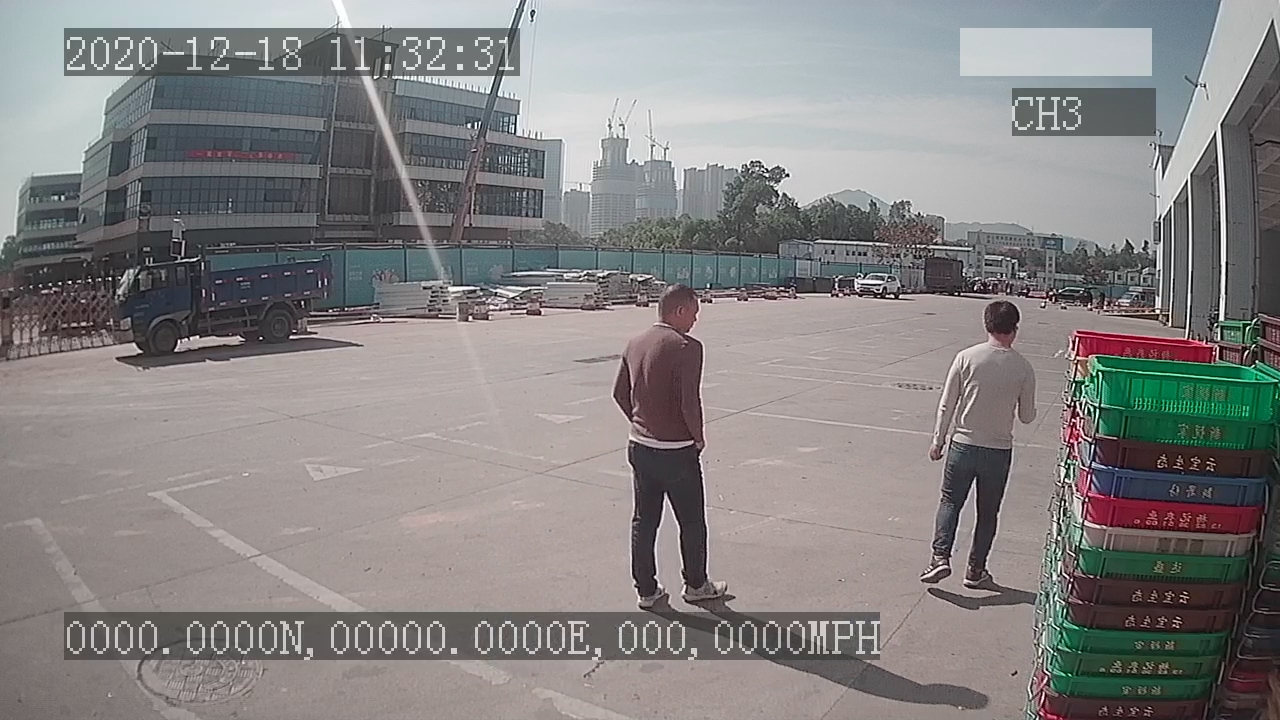person: (612, 278, 729, 609), (918, 299, 1036, 598)
